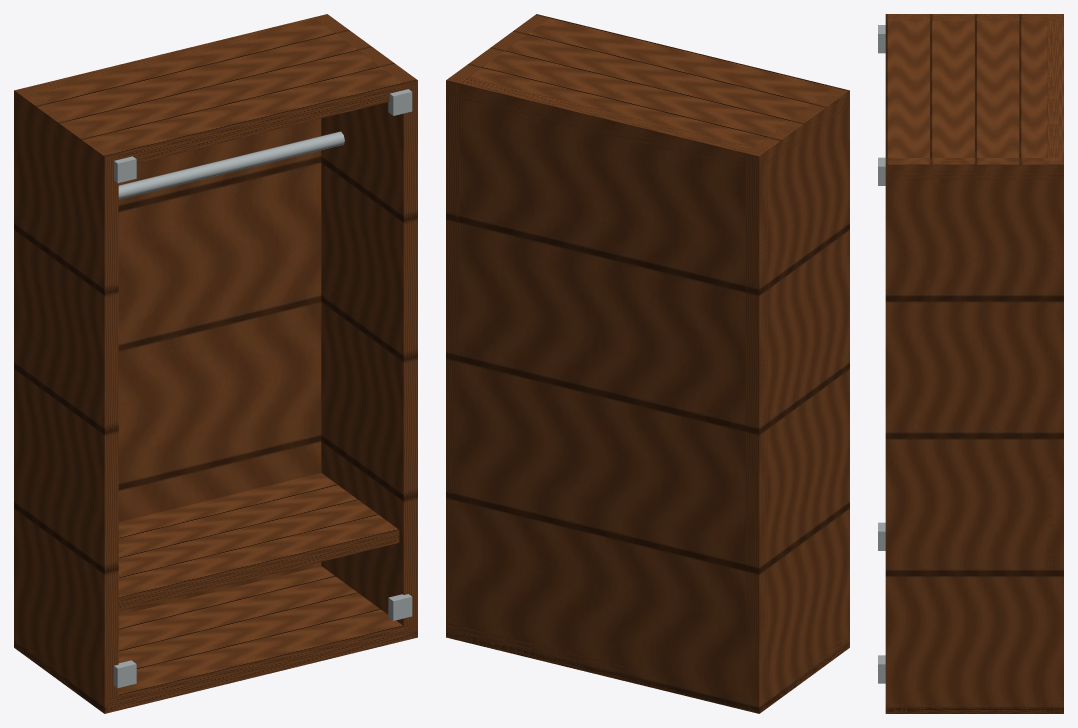
File: prehistoric-survivor-settlement-communal-tool-locker-0ed1947e__23230.glb
3 views of the same model, side by side, from view 1: azimuth 30°, elevation 25°; view 2: azimuth 150°, elevation 25°; view 3: azimuth 270°, elevation 25° (orthographic).
Parts seen in each view (by area): view 1: communal-tool-locker; view 2: communal-tool-locker; view 3: communal-tool-locker.
Boxes of the visible parts, <box> form: communal-tool-locker: <box>14,14,417,713</box>; communal-tool-locker: <box>446,14,849,713</box>; communal-tool-locker: <box>878,14,1063,713</box>.
Size of the model in its own units: 1 by 1.7 by 0.521.
2 materials, 1 textured.
